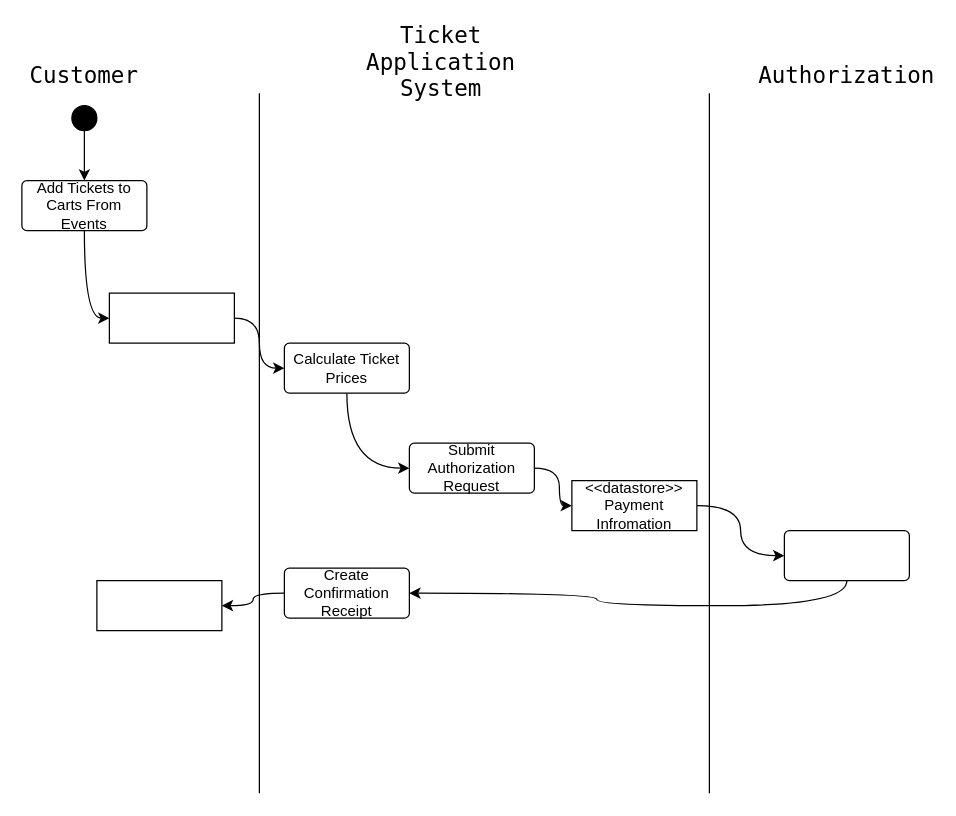
Some shapes in this 956 by 816 pixel diagram are drawn without their labels. The centre of each missing label's shape, as x and y in pixels:
Authorize Payment: [846,555]
Cart: [171,317]
Confirmation Receipt: [159,605]
